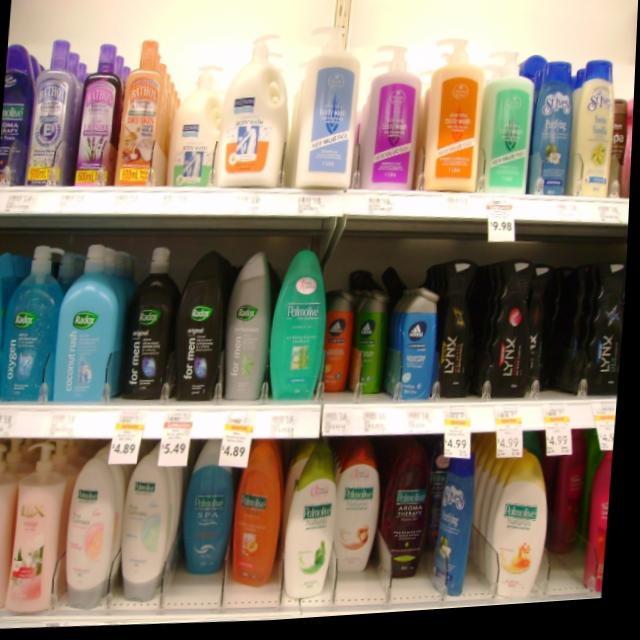q100: (286, 446, 348, 613)
